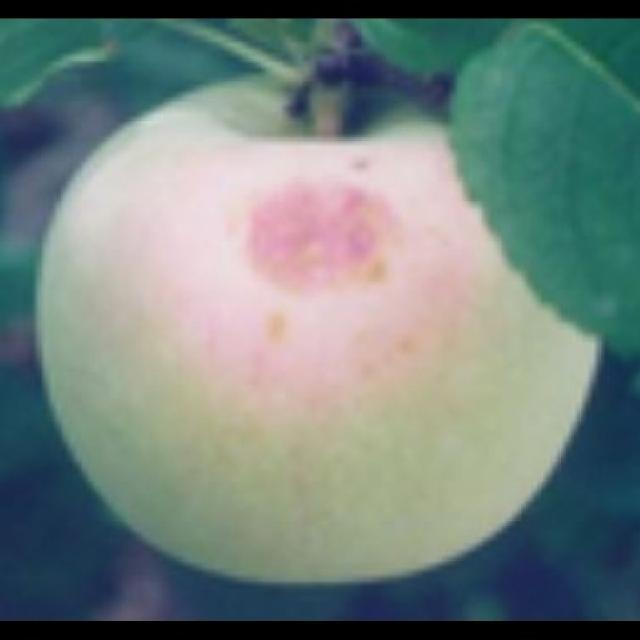Rotten Apple: (31, 58, 606, 590)
